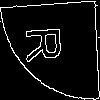R: (25, 24, 71, 63)
